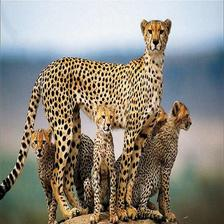Cheetah: (0, 17, 174, 222), (133, 101, 194, 224), (27, 128, 105, 224), (90, 105, 118, 223)
